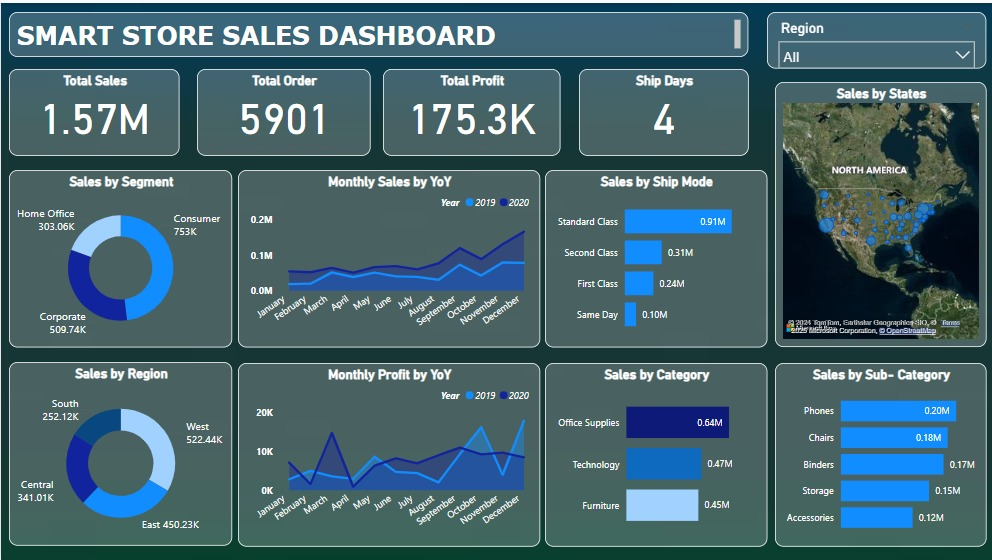

The page's visual inventory and layout, read from the dashboard file:
{"tool":"powerbi","page":{"name":"Page 1","canvas":[1280,720],"ordinal":0},"visuals":[{"type":"barChart","title":" Sales by Category","fields":{"Y":["Sum(SuperStore_Sales_Dataset.Sales)"],"Category":["SuperStore_Sales_Dataset.Category"]},"box":[701.9,464.5,286.5,237.4],"z":0},{"type":"barChart","title":" Sales by Sub- Category","fields":{"Y":["Sum(SuperStore_Sales_Dataset.Sales)"],"Category":["SuperStore_Sales_Dataset.Sub-Category"]},"box":[998.6,464.5,273,237.4],"z":1000},{"type":"barChart","title":" Sales by Ship Mode","fields":{"Y":["Sum(SuperStore_Sales_Dataset.Sales)"],"Category":["SuperStore_Sales_Dataset.Ship Mode"]},"box":[701.9,215.3,286.5,228.9],"z":2000},{"type":"areaChart","title":" Monthly Sales by YoY","fields":{"Category":["SuperStore_Sales_Dataset.Order Date.Variation.Date Hierarchy.Month"],"Y":["Sum(SuperStore_Sales_Dataset.Sales)"],"Series":["SuperStore_Sales_Dataset.Order Date.Variation.Date Hierarchy.Year"]},"box":[305.2,215.3,389.9,228.9],"z":3000},{"type":"areaChart","title":" Monthly Profit by YoY","fields":{"Category":["SuperStore_Sales_Dataset.Order Date.Variation.Date Hierarchy.Month"],"Series":["SuperStore_Sales_Dataset.Order Date.Variation.Date Hierarchy.Year"],"Y":["Sum(SuperStore_Sales_Dataset.Profit)"]},"box":[305.2,464.5,389.9,237.4],"z":4000},{"type":"map","title":" Sales by States","fields":{"Category":["SuperStore_Sales_Dataset.State"],"Size":["Sum(SuperStore_Sales_Dataset.Sales)"]},"box":[998.6,101.7,273,342.5],"z":5000},{"type":"donutChart","title":"Sales by Segment","fields":{"Y":["Sum(SuperStore_Sales_Dataset.Sales)"],"Category":["SuperStore_Sales_Dataset.Segment"]},"box":[10.2,215.3,288.2,228.9],"z":6000},{"type":"donutChart","title":" Sales by Region","fields":{"Y":["Sum(SuperStore_Sales_Dataset.Sales)"],"Category":["SuperStore_Sales_Dataset.Region"]},"box":[10.2,462.8,288.2,237.4],"z":7000},{"type":"slicer","fields":{"Values":["SuperStore_Sales_Dataset.Region"]},"box":[988.4,11.9,283.1,72.9],"z":8000},{"type":"card","title":"Total Sales","fields":{"Values":["Sum(SuperStore_Sales_Dataset.Sales)"]},"box":[10.2,84.8,220.4,111.9],"z":9000},{"type":"card","title":"Total Order","fields":{"Values":["CountNonNull(SuperStore_Sales_Dataset.Row ID+O6G3A1:R6)"]},"box":[252.6,84.8,223.8,111.9],"z":10000},{"type":"card","title":"Total Profit","fields":{"Values":["Sum(SuperStore_Sales_Dataset.Profit)"]},"box":[493.4,84.8,228.9,111.9],"z":11000},{"type":"card","title":"Ship Days","fields":{"Values":["Avg(SuperStore_Sales_Dataset.Avg.delivery Days)"]},"box":[746,84.8,218.7,111.9],"z":12000},{"type":"textbox","box":[10.2,11.9,954.5,57.6],"z":13000}]}

Visuals, with their boxes in screenshot pixels (x1, y1, x2, y2), scaled from the page's 1280x720 canvas onto the 992x560 screenshot:
" Sales by Category" barChart: <box>544,361,766,546</box>
" Sales by Sub- Category" barChart: <box>774,361,985,546</box>
" Sales by Ship Mode" barChart: <box>544,167,766,345</box>
" Monthly Sales by YoY" areaChart: <box>237,167,539,345</box>
" Monthly Profit by YoY" areaChart: <box>237,361,539,546</box>
" Sales by States" map: <box>774,79,985,345</box>
"Sales by Segment" donutChart: <box>8,167,231,345</box>
" Sales by Region" donutChart: <box>8,360,231,545</box>
slicer - SuperStore_Sales_Dataset.Region: <box>766,9,985,66</box>
"Total Sales" card: <box>8,66,179,153</box>
"Total Order" card: <box>196,66,369,153</box>
"Total Profit" card: <box>382,66,560,153</box>
"Ship Days" card: <box>578,66,748,153</box>
textbox: <box>8,9,748,54</box>
